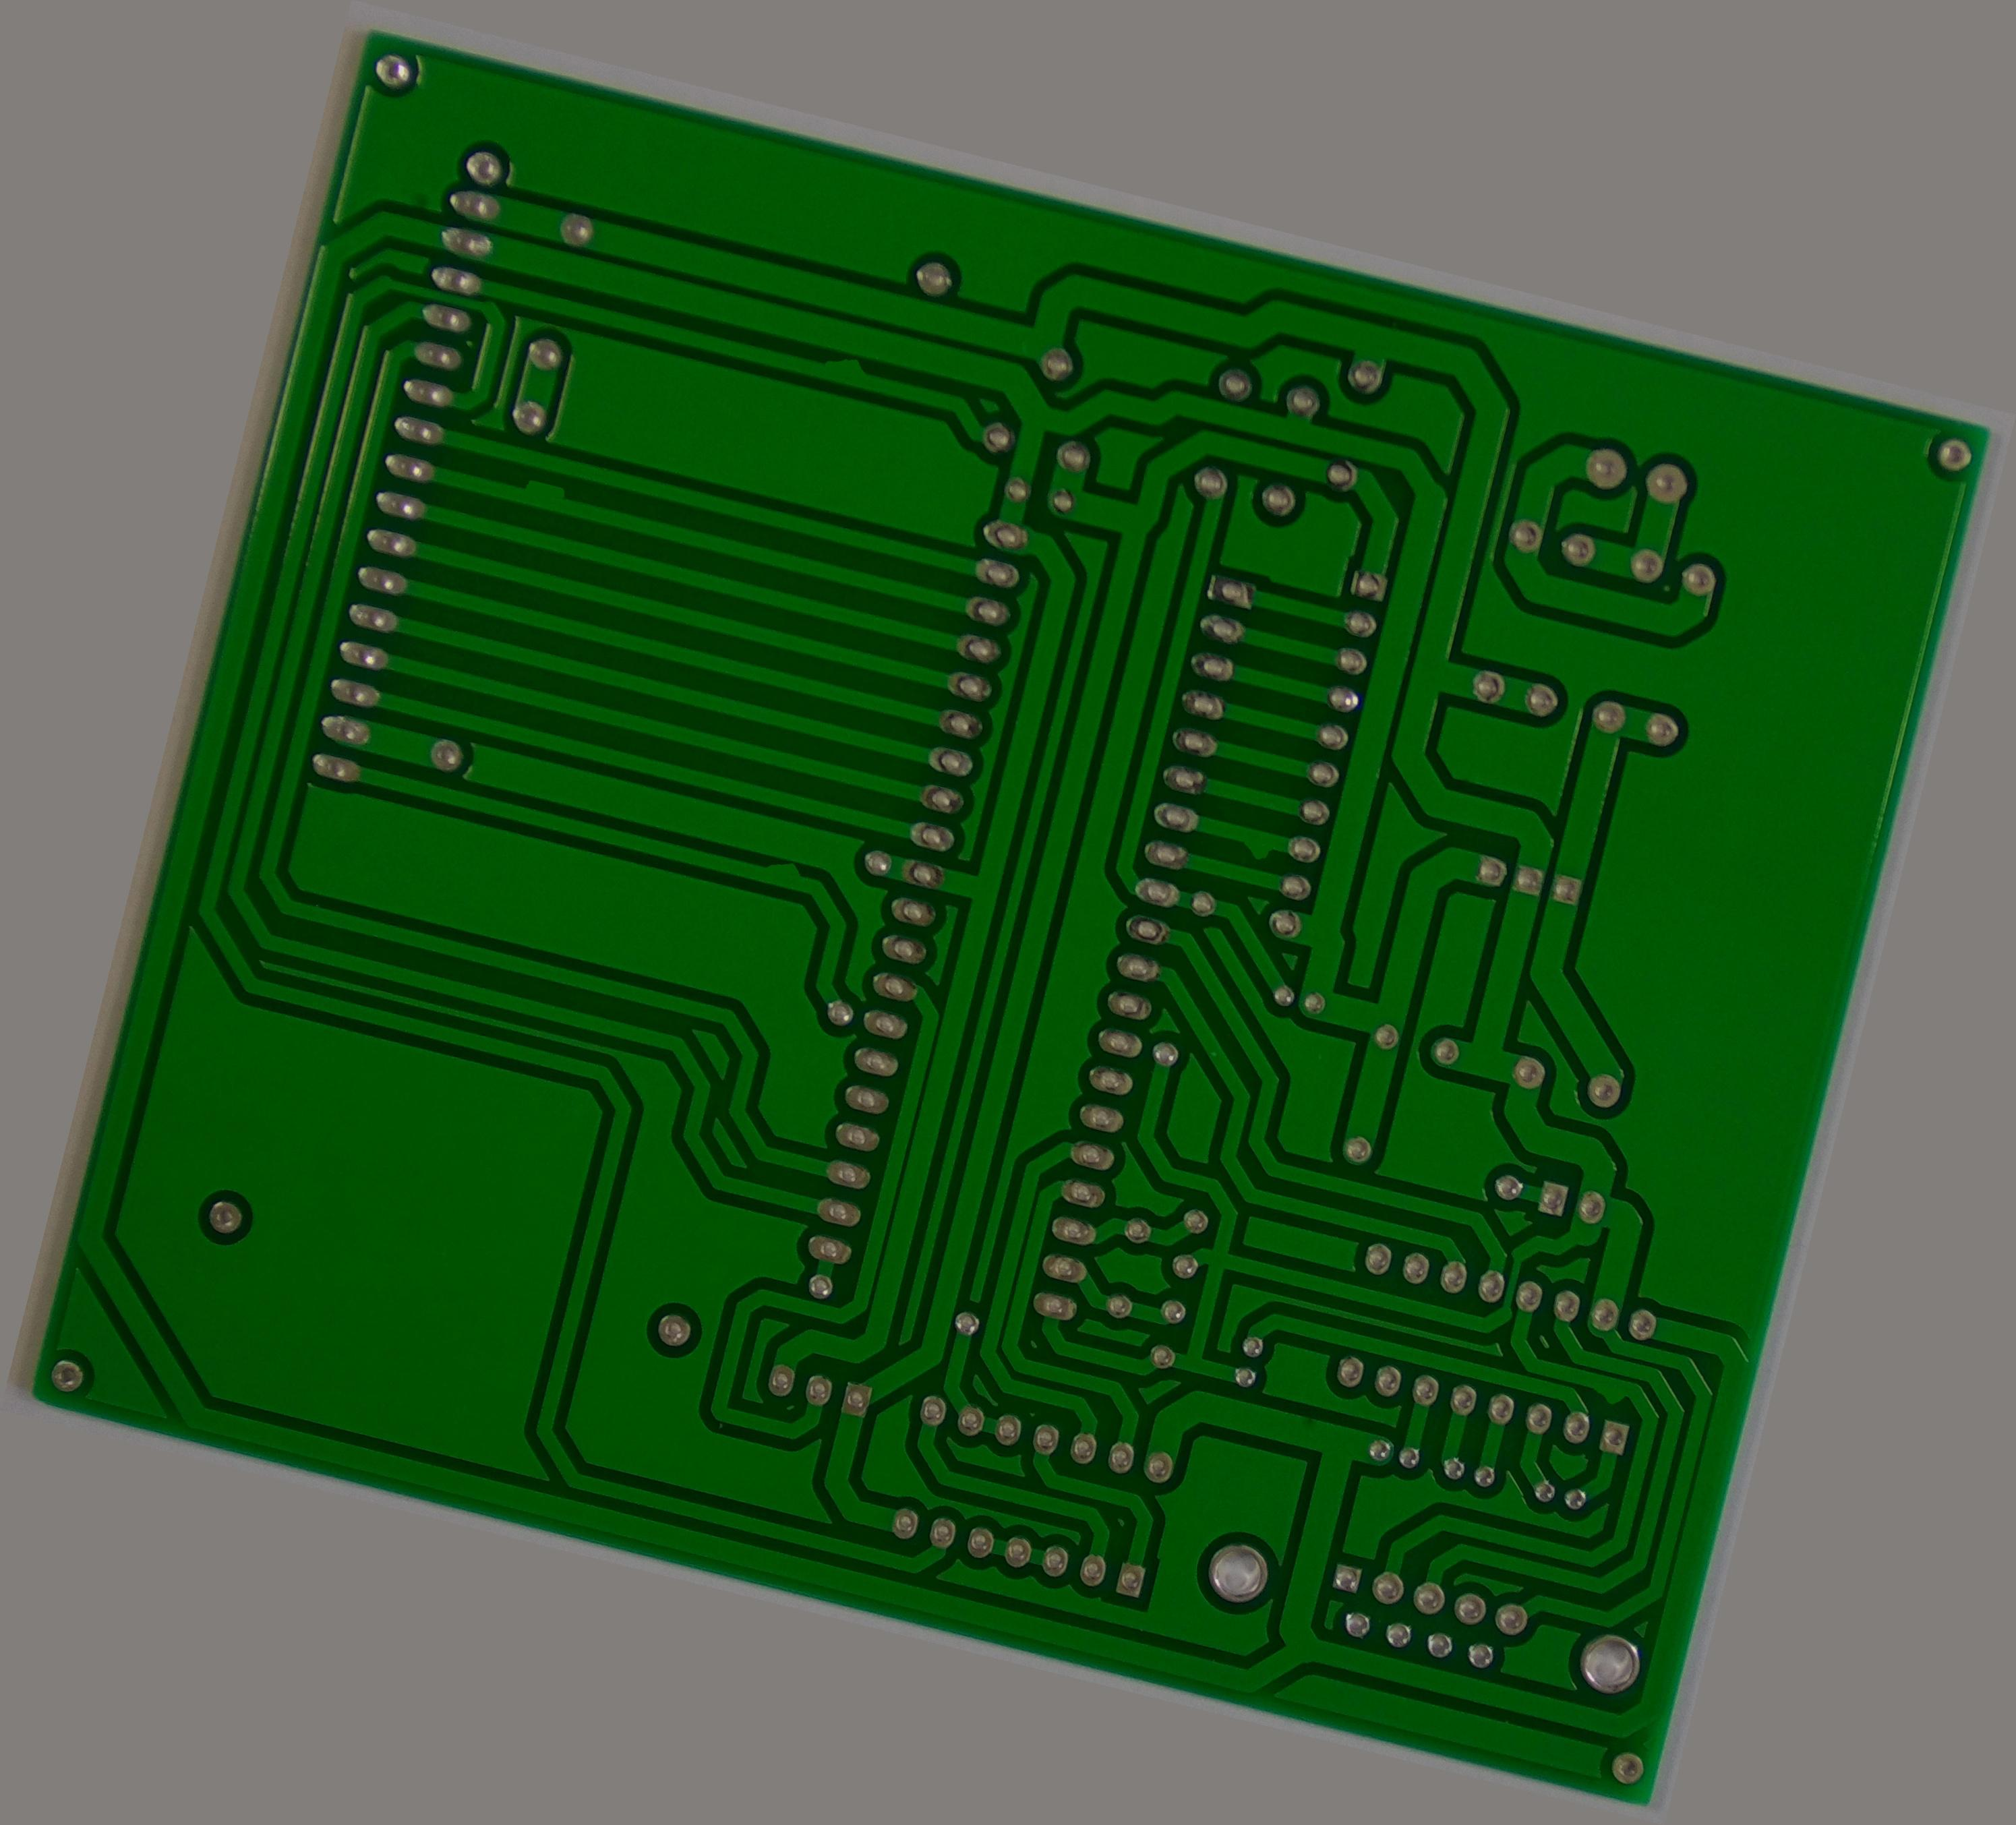spur: (504, 467, 580, 518), (752, 845, 813, 898), (1222, 819, 1284, 871), (1580, 1363, 1635, 1416), (815, 346, 875, 392)
